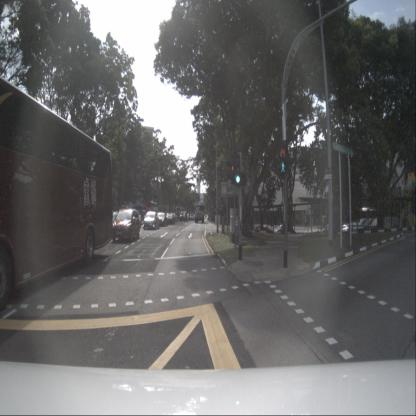vehicle-bus-rigid: (0, 76, 113, 312), (346, 207, 378, 228), (146, 202, 158, 217)
vehicle-car: (112, 208, 140, 242), (142, 210, 160, 230), (157, 212, 167, 226), (337, 224, 351, 234), (137, 210, 147, 220), (165, 214, 175, 224), (180, 211, 188, 222), (170, 212, 178, 223)
vehicle-truck: (195, 204, 204, 223)
